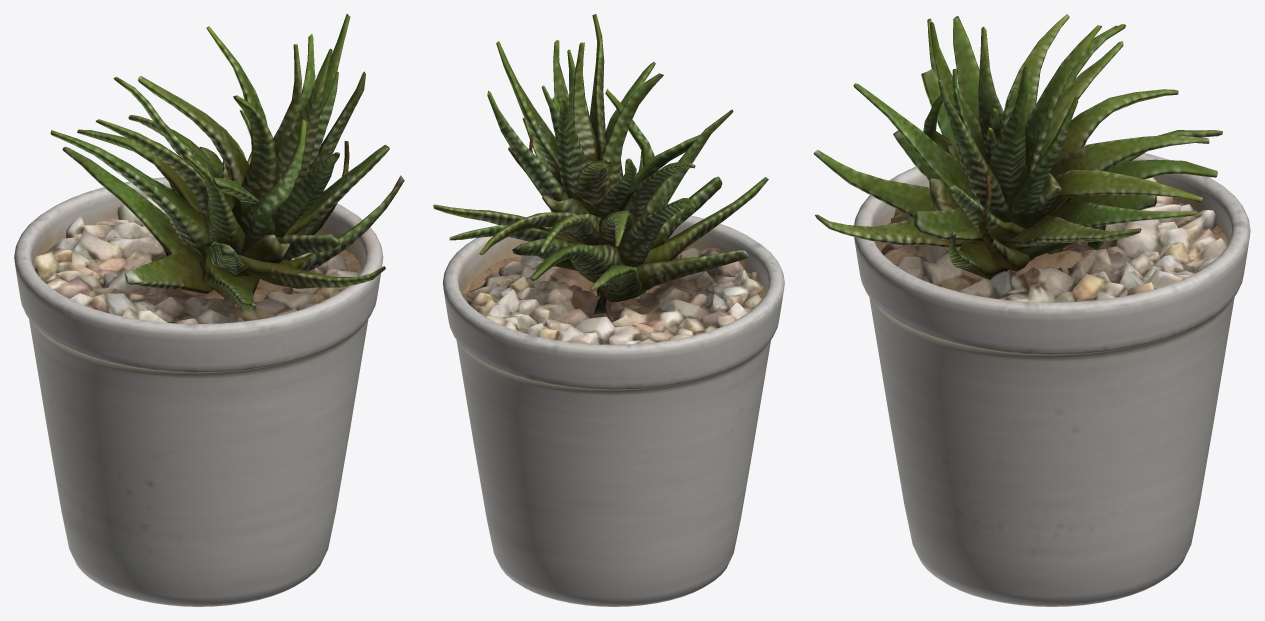
File: potted_plant_04.glb
3 views of the same model, side by side, from view 1: azimuth 30°, elevation 25°; view 2: azimuth 150°, elevation 25°; view 3: azimuth 270°, elevation 25° (orthographic). The views are drawn at different scales.
Visible parts, largest first — view 1: potted_plant_04_pot, potted_plant_04_plant, potted_plant_04_ground, potted_plant_04_dirt; view 2: potted_plant_04_pot, potted_plant_04_plant, potted_plant_04_ground, potted_plant_04_dirt; view 3: potted_plant_04_pot, potted_plant_04_plant, potted_plant_04_ground, potted_plant_04_dirt.
Part boxes in pixels (bbox=[...]): potted_plant_04_pot: bbox=[14, 177, 383, 606]; potted_plant_04_plant: bbox=[50, 14, 404, 311]; potted_plant_04_ground: bbox=[34, 196, 357, 323]; potted_plant_04_dirt: bbox=[34, 238, 362, 307]; potted_plant_04_pot: bbox=[443, 215, 784, 606]; potted_plant_04_plant: bbox=[433, 14, 768, 314]; potted_plant_04_ground: bbox=[463, 247, 765, 344]; potted_plant_04_dirt: bbox=[462, 247, 765, 306]; potted_plant_04_pot: bbox=[854, 144, 1250, 606]; potted_plant_04_plant: bbox=[813, 14, 1222, 279]; potted_plant_04_ground: bbox=[881, 177, 1227, 302]; potted_plant_04_dirt: bbox=[875, 200, 1228, 297].
Size of the model in its own units: 0.1679 by 0.2675 by 0.1848.
Materials: 1 (1 with a texture image).
